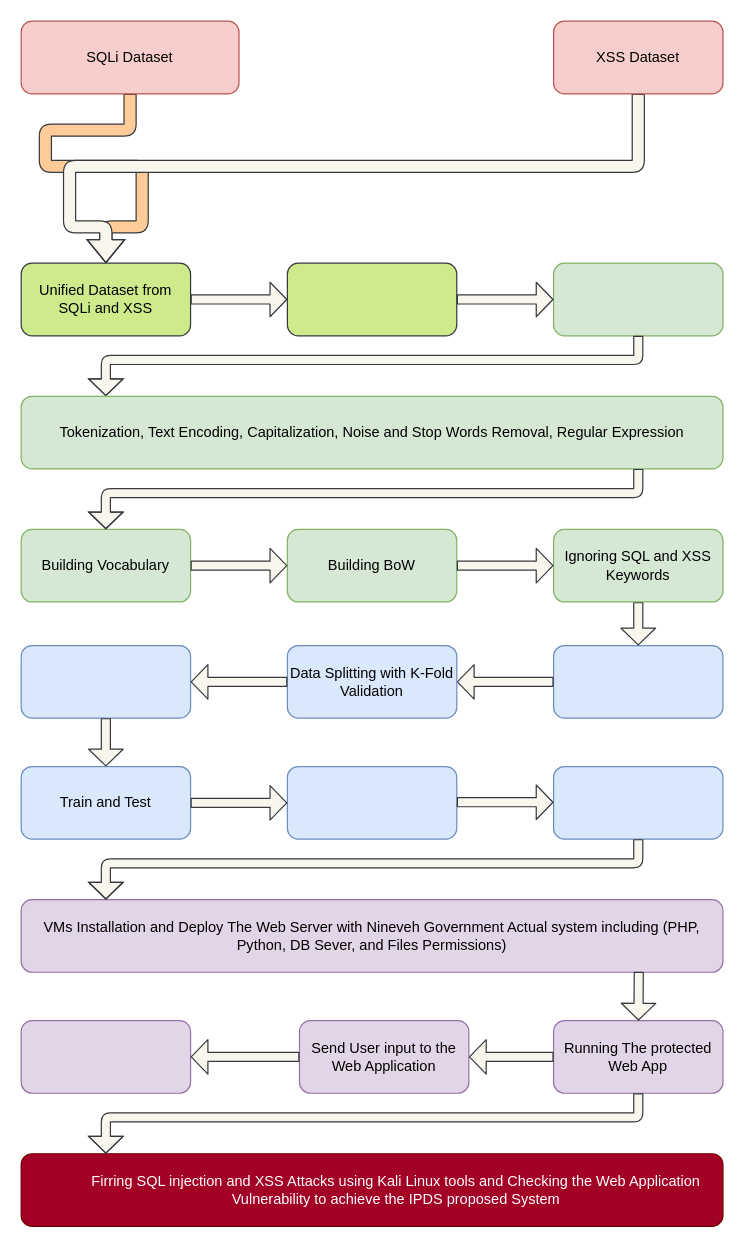
Image size: 744x1248. Some labels were removed from this diagram. The shapes that lost their labels are listed below. From the top down, each one's centre as x and y in pixels, then its label:
pixel 371 299: Dataset Pre-Processing
pixel 637 299: Using NLP
pixel 105 681: Applying ML Algorithms
pixel 637 681: ML Process
pixel 371 802: Modul Performance Measure
pixel 637 802: Save the Modules
pixel 105 1056: Scan the request in real time with Python and PHP
